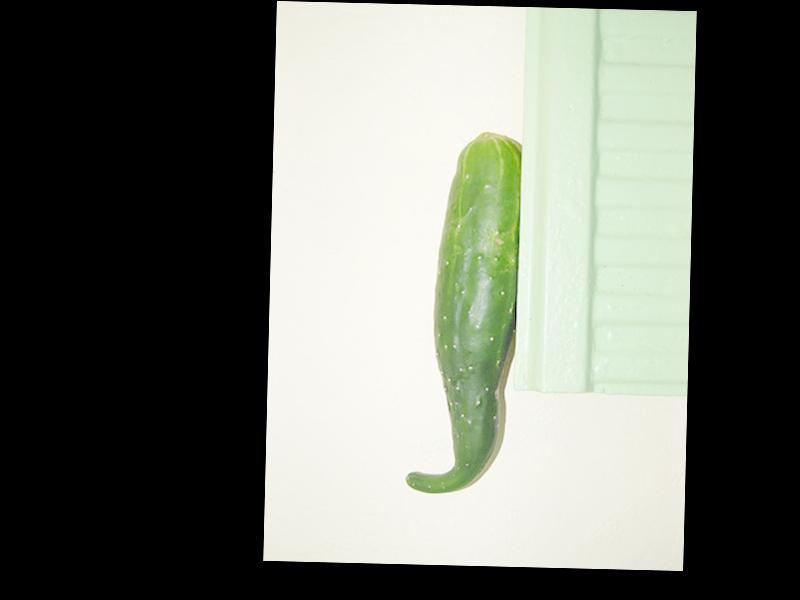Cucumber: (406, 131, 522, 496)
